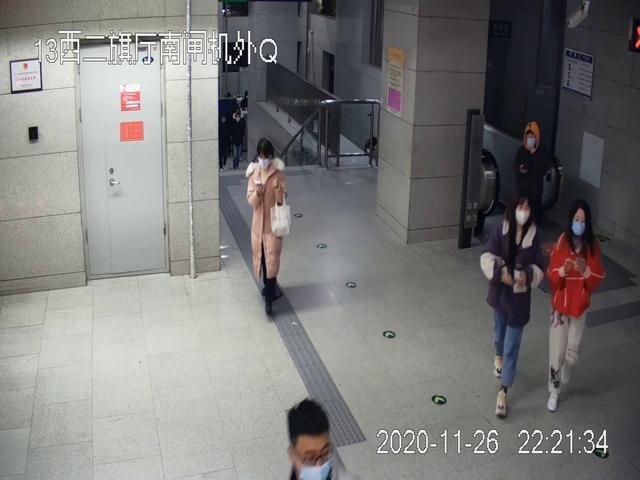person: (480, 193, 544, 417), (547, 198, 604, 414), (245, 138, 291, 320), (513, 119, 552, 274)
